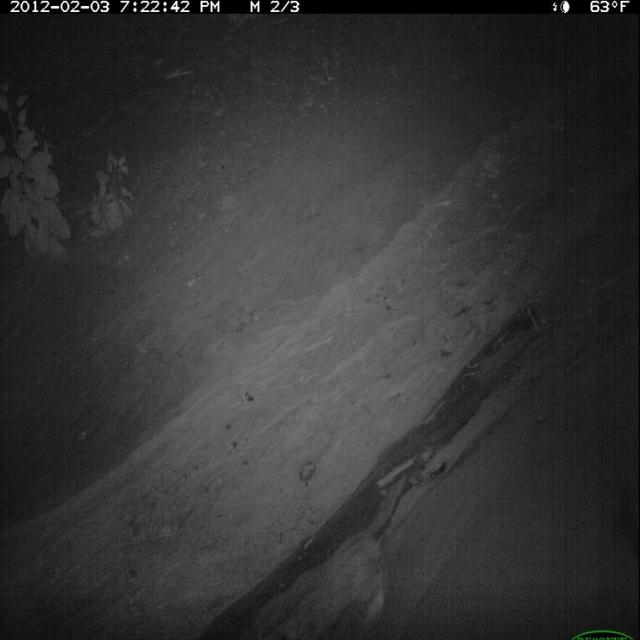bobcat: (249, 524, 392, 640)
